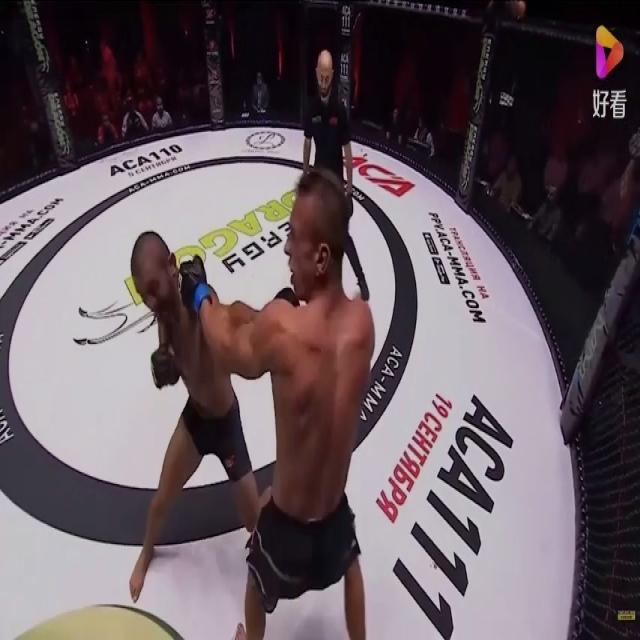fight: (114, 173, 409, 639)
non-fight: (274, 46, 376, 306)
